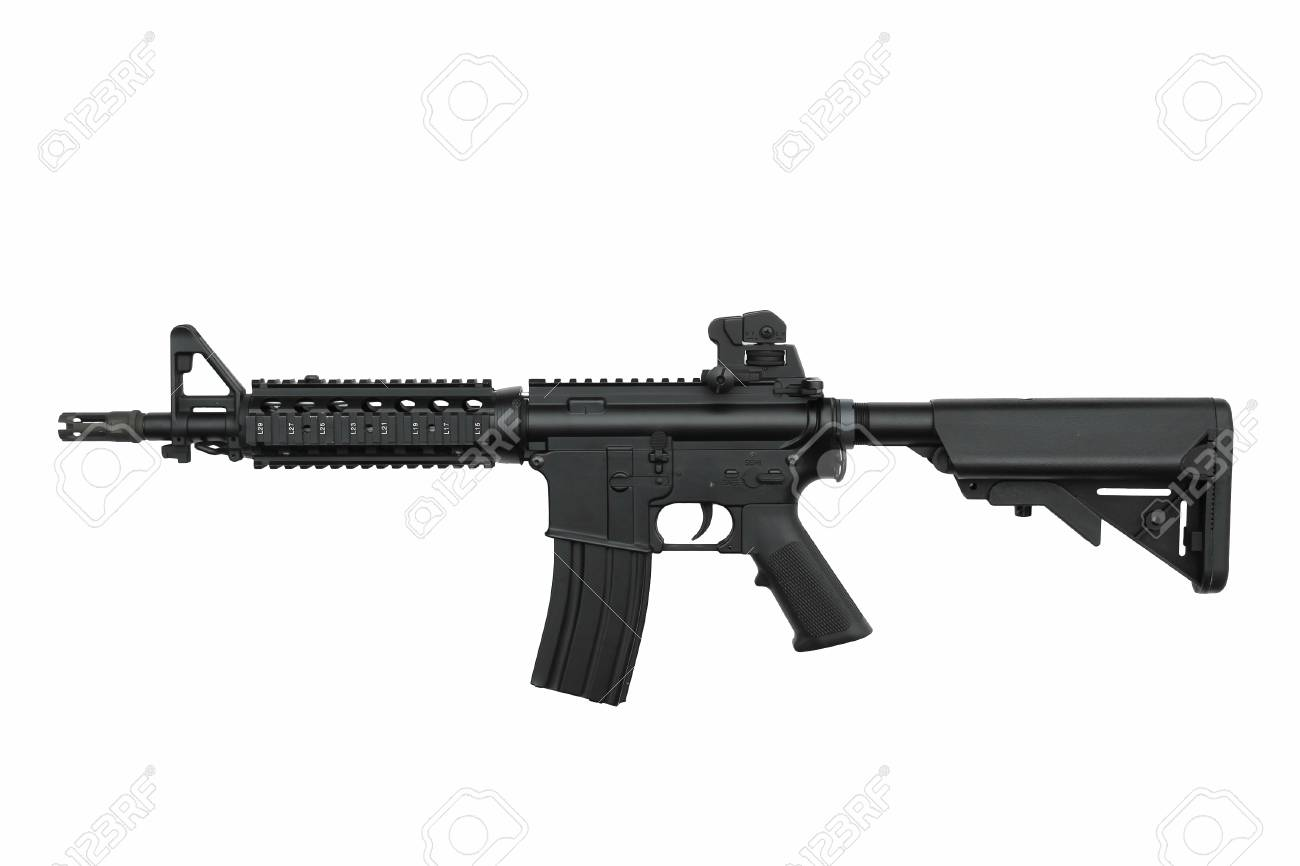Arma Real: (53, 308, 1252, 711)
